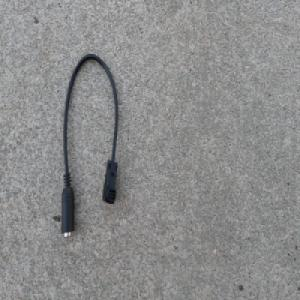Wire: (59, 52, 118, 243)
